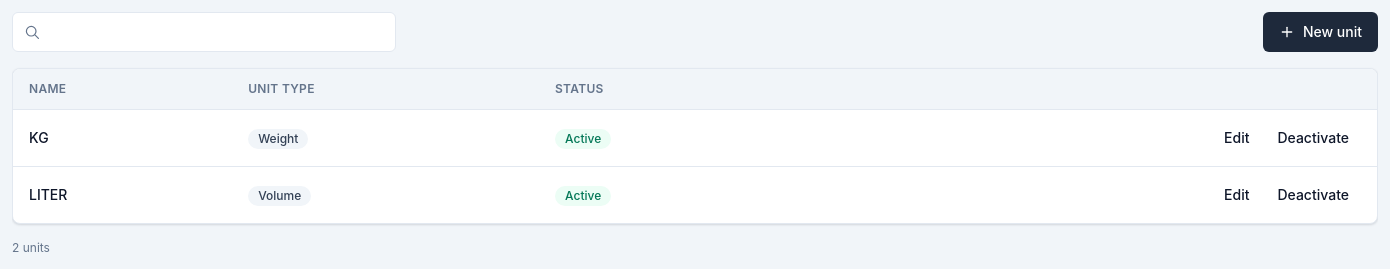
UomMasterPanel › filters the list by name as the user searches
The image size is (1390, 269).
Expected: the text "KG" is shown, [13,110,232,166]
Type "lit" into the search field named "search units by name".
click(204, 32); type("lit")  # box [12,12,396,52]
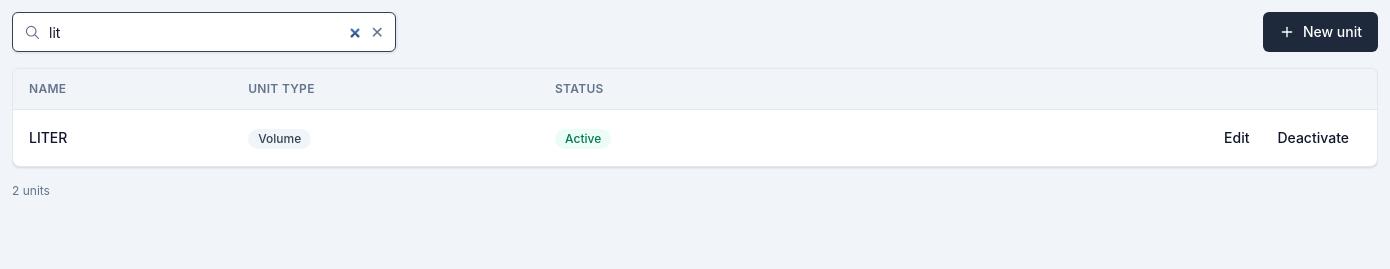
Expected: the text "LITER" is shown, [13,110,232,166]
Expected: the text "KG" is gone
